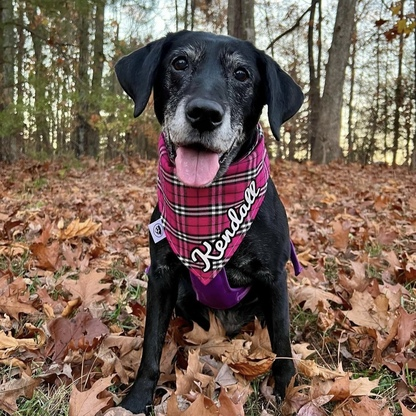labrado: (112, 28, 310, 416)
